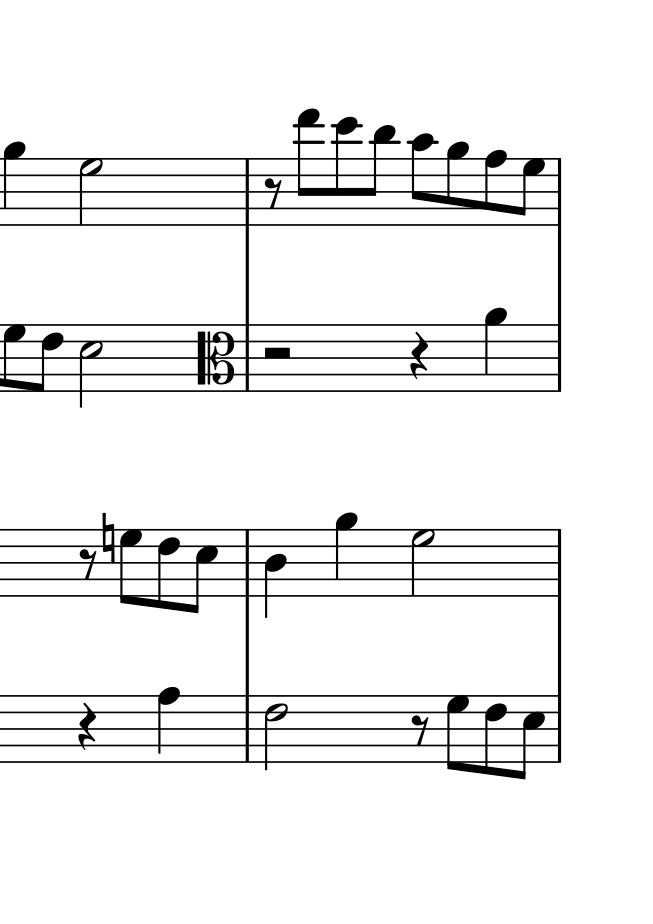2_5: (78, 322, 106, 409)
2_6: (263, 695, 287, 771)
2_7: (410, 528, 435, 597), (78, 158, 102, 224)
4_4: (263, 530, 288, 616)
4_8: (156, 686, 181, 764)
4_9: (2, 138, 25, 228), (334, 509, 356, 600), (484, 305, 506, 394)
8_10: (410, 132, 435, 227)
8_11: (368, 122, 398, 226)
8_12: (333, 113, 362, 227)
8_13: (292, 107, 324, 229)
8_5: (186, 527, 219, 615), (516, 693, 545, 782)
8_6: (35, 322, 64, 394), (156, 526, 180, 613), (483, 694, 507, 778)
8_7: (445, 693, 469, 773), (118, 527, 142, 606), (517, 157, 544, 226), (2, 323, 26, 394)
8_8: (484, 149, 508, 228)
8_9: (446, 139, 468, 226)
Cclef: (195, 323, 236, 390)
Natural: (101, 514, 116, 566)
Rests2: (260, 344, 294, 362)
Rests4: (76, 702, 98, 753), (408, 331, 430, 381)
Rests8: (263, 175, 283, 210), (78, 546, 98, 581), (410, 713, 430, 747)
Single_barline: (239, 529, 256, 597), (239, 159, 256, 226), (239, 695, 256, 762), (238, 324, 255, 390), (551, 695, 567, 762), (551, 531, 567, 596), (551, 326, 567, 390), (552, 159, 566, 226)
